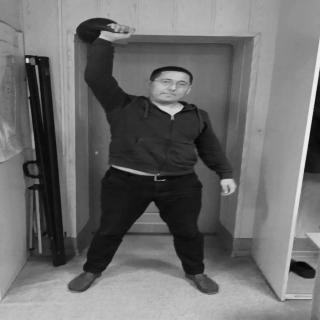kettlebell: (77, 18, 135, 48)
